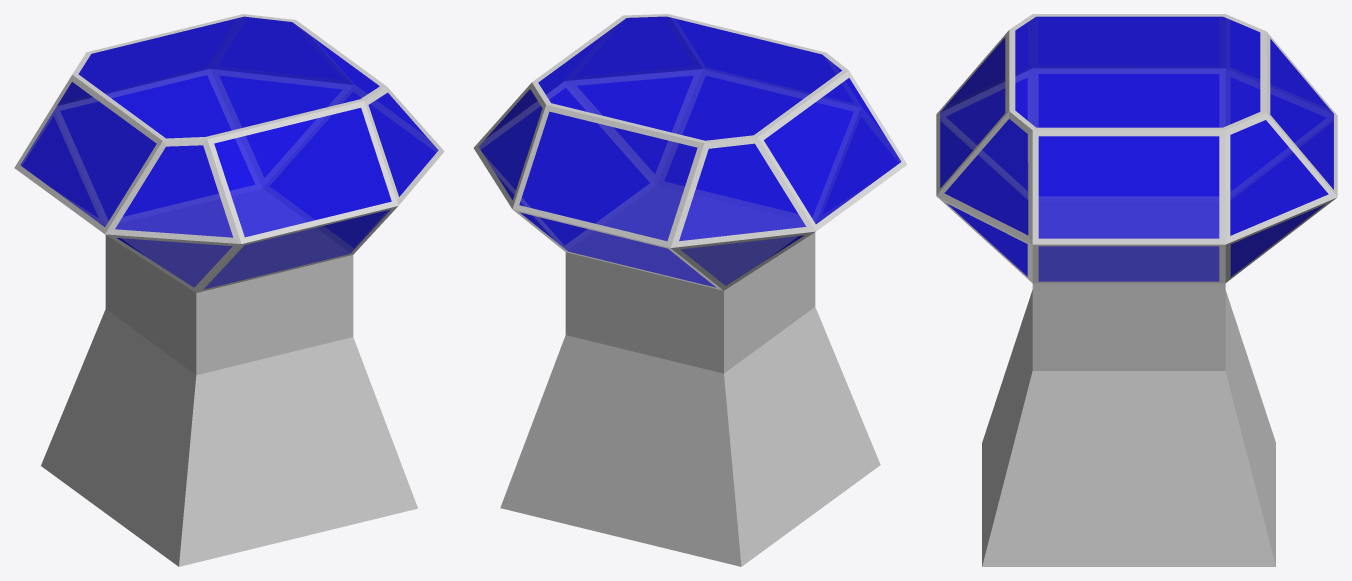
The model's file is RegenerateurShield.fbx.
3 views of the same model, side by side, from view 1: azimuth 30°, elevation 25°; view 2: azimuth 150°, elevation 25°; view 3: azimuth 270°, elevation 25° (orthographic). The views are drawn at different scales.
Visible parts, largest first — view 1: Regenerateur de shield; view 2: Regenerateur de shield; view 3: Regenerateur de shield.
Part boxes in pixels (x1,y1,x2,y2): Regenerateur de shield: [14, 14, 444, 566]; Regenerateur de shield: [473, 14, 907, 566]; Regenerateur de shield: [936, 14, 1337, 566].
Bounding box in the file's own units: 45.08 × 43.37 × 51.76.
